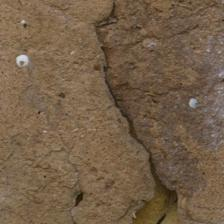Crack: (46, 2, 117, 178)
